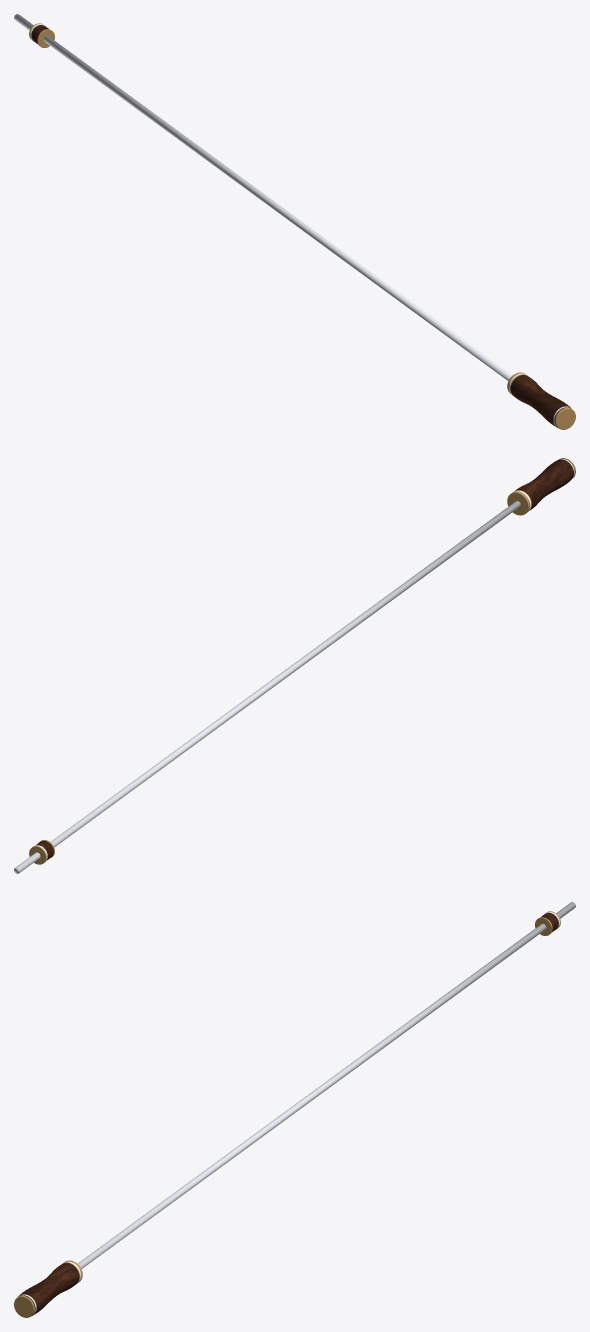
Rendered from fuzeball_rod_3man.glb.
3 views of the same model, one above another, from view 1: azimuth 30°, elevation 25°; view 2: azimuth 150°, elevation 25°; view 3: azimuth 330°, elevation 25° (orthographic).
Parts seen in each view (by area): view 1: rod3_bar.002, rod3_handle_walnut_grip; view 2: rod3_bar.002, rod3_handle_walnut_grip; view 3: rod3_bar.002, rod3_handle_walnut_grip.
Part boxes in pixels (box(x1,y1,x2,y2)): rod3_bar.002: box(14, 14, 512, 380); rod3_handle_walnut_grip: box(510, 375, 570, 427); rod3_bar.002: box(14, 501, 520, 873); rod3_handle_walnut_grip: box(515, 459, 573, 510); rod3_bar.002: box(77, 902, 575, 1268); rod3_handle_walnut_grip: box(19, 1263, 79, 1315).
Size of the model in its own units: 2.8 by 2.8 by 122.
Materials: 5 (1 with a texture image).
